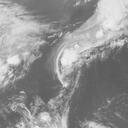cyclone: (52, 34, 89, 90)
